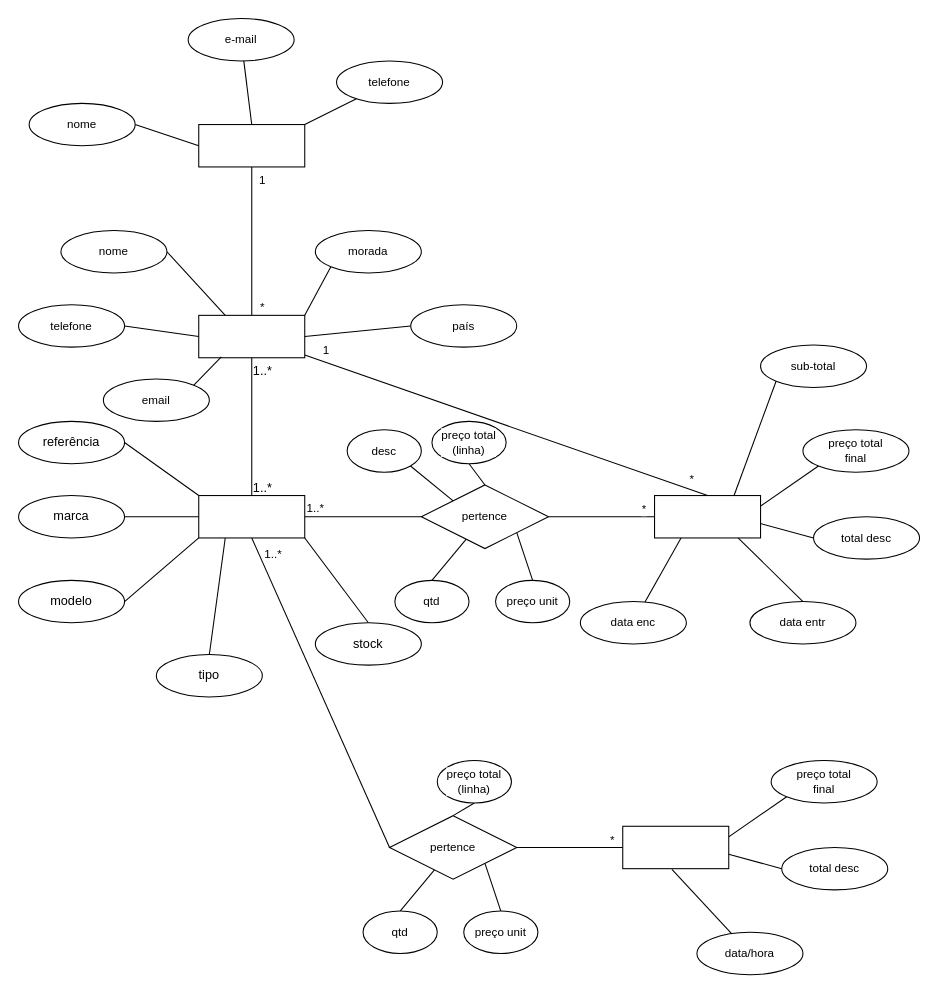
Image size: 938x993. Some labels were removed from this diagram. The shapes that lost their labels are listed below. From the top down, each one's centre as x and y in pixels, then its label:
At [251,145]: "Representante".
At [251,336]: "Fornecedor".
At [251,516]: "Produto".
At [707,516]: "Encomenda".
At [675,847]: "Venda".
